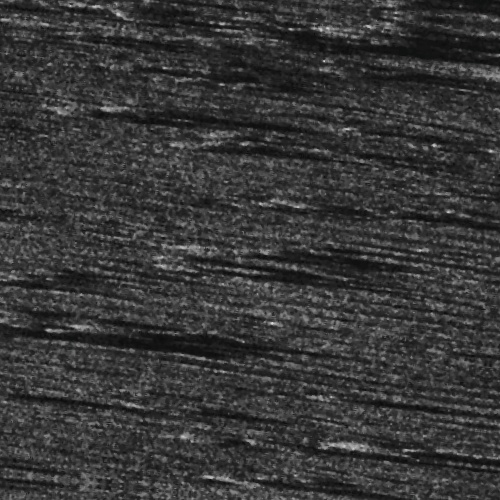object: (303, 0, 428, 19), (260, 14, 395, 25), (188, 23, 261, 40), (199, 473, 304, 482), (139, 143, 202, 156), (449, 34, 500, 49), (52, 343, 115, 354), (443, 418, 500, 429), (0, 349, 42, 362), (268, 190, 321, 199), (46, 124, 67, 133), (95, 119, 148, 122), (257, 244, 288, 247), (491, 317, 500, 322), (496, 117, 500, 122)
shadow: (224, 23, 500, 40), (0, 349, 297, 362), (366, 0, 500, 19), (84, 343, 257, 354), (327, 14, 500, 25), (295, 190, 500, 199), (170, 143, 309, 156), (252, 473, 434, 482), (57, 124, 187, 133), (0, 301, 148, 308), (0, 362, 296, 365), (0, 355, 268, 358), (122, 119, 301, 122), (0, 486, 97, 491), (273, 244, 415, 247), (0, 149, 45, 152)
